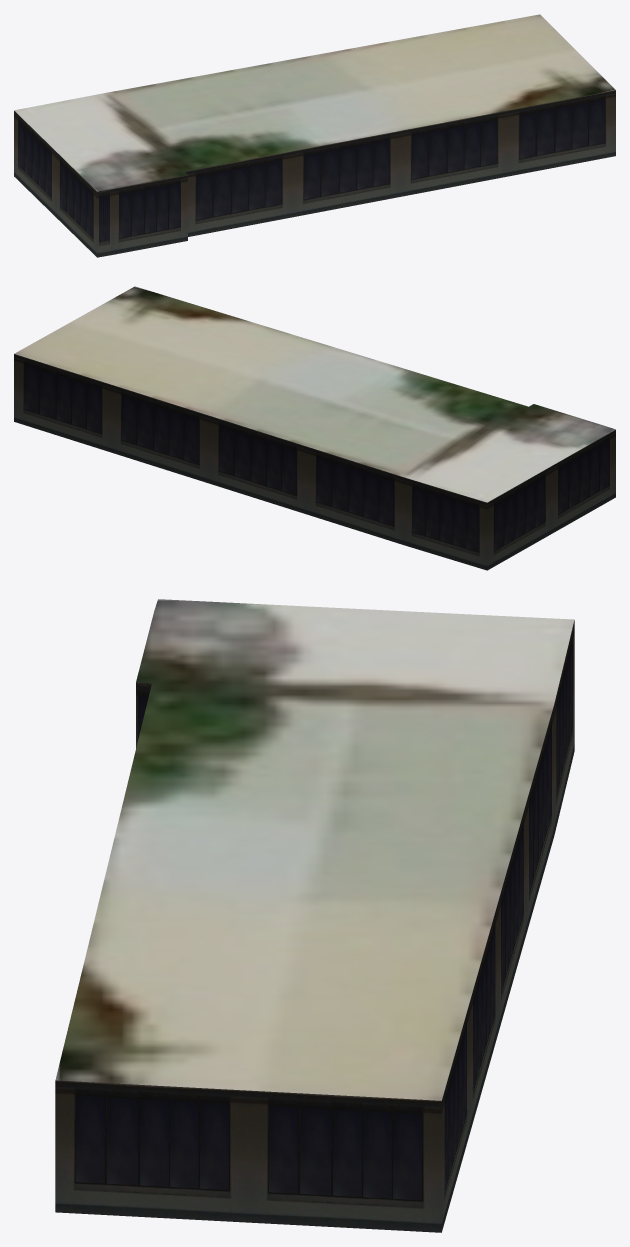
3 views of the same model, one above another, from view 1: azimuth 30°, elevation 25°; view 2: azimuth 150°, elevation 25°; view 3: azimuth 270°, elevation 25° (orthographic). The views are drawn at different scales.
Visible parts, largest first — view 1: SketchUp (×5); view 2: SketchUp (×4); view 3: SketchUp (×4).
Part boxes in pixels (x1,y1,x2,y2): SketchUp (×5): (14, 14, 615, 257); SketchUp (×4): (14, 286, 615, 570); SketchUp (×4): (55, 599, 574, 1232).
Size of the model in its own units: 29.5 by 12.9 by 3.62.
Materials: 2 (2 with a texture image).
